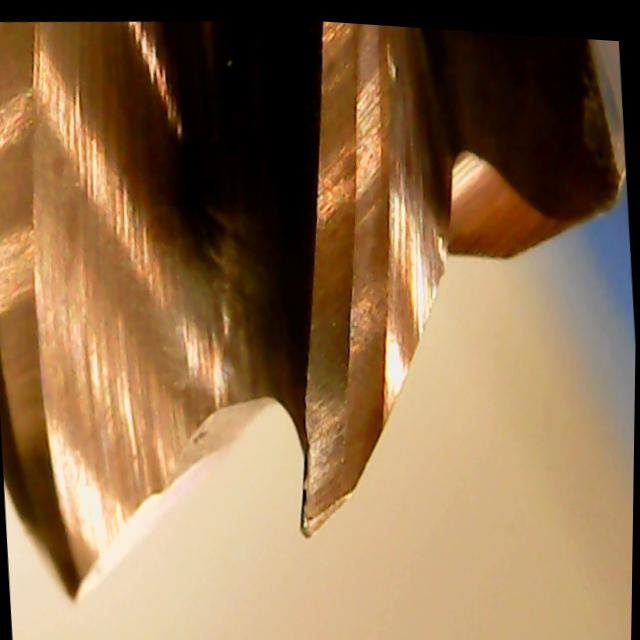Tool-wear-class-1: (264, 287, 408, 546)
